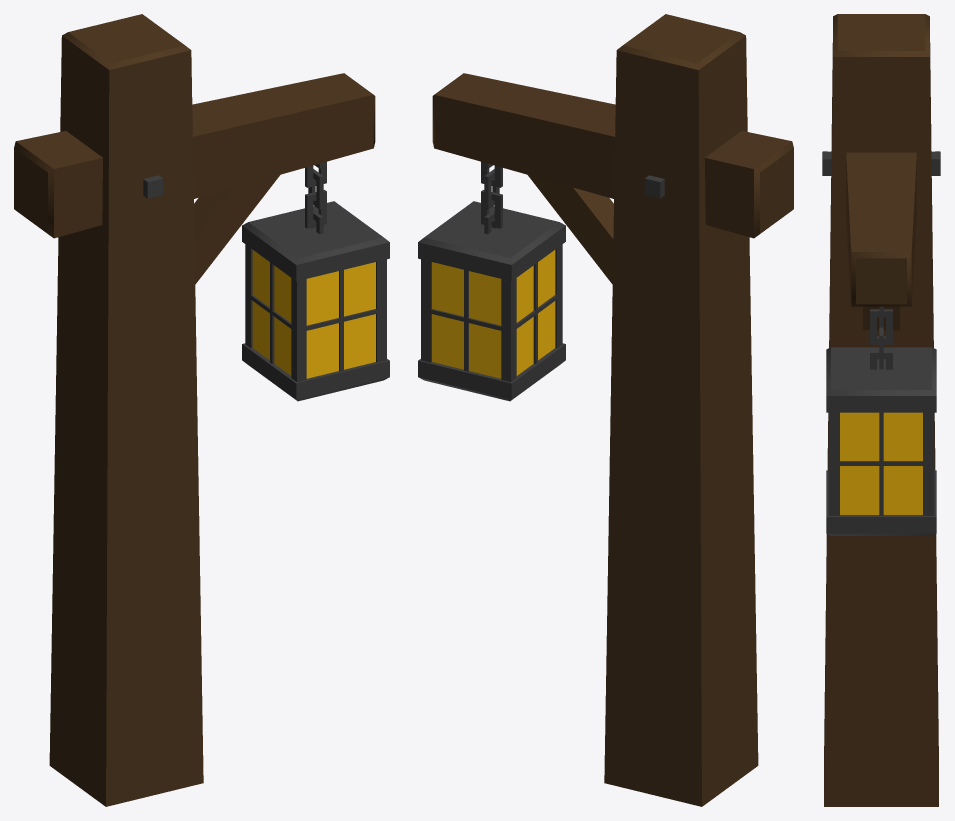
Rendered from ElwFor_Lantern.obj.
The picture shows the model from 3 angles, left to right: view 1: azimuth 30°, elevation 25°; view 2: azimuth 150°, elevation 25°; view 3: azimuth 270°, elevation 25°; orthographic projection.
Visible parts, largest first — view 1: Mesh1 ElwFor_Lantern_C01_1 Model, Mesh3 ElwFor_Lantern_C03_1 ElwFor_Lantern_C02_1 Model; view 2: Mesh1 ElwFor_Lantern_C01_1 Model, Mesh3 ElwFor_Lantern_C03_1 ElwFor_Lantern_C02_1 Model; view 3: Mesh1 ElwFor_Lantern_C01_1 Model, Mesh3 ElwFor_Lantern_C03_1 ElwFor_Lantern_C02_1 Model, Mesh7 ElwFor_Lantern_C04_3 ElwFor_Lantern_C02_1 Model, Mesh5 ElwFor_Lantern_C05_1 ElwFor_Lantern_C02_1 Model, Mesh2 ElwFor_Lantern_C01_1 Model.
Part boxes in pixels (x1=…): Mesh1 ElwFor_Lantern_C01_1 Model: x1=14, y1=14, x2=375, y2=806; Mesh3 ElwFor_Lantern_C03_1 ElwFor_Lantern_C02_1 Model: x1=242, y1=201, x2=389, y2=401; Mesh1 ElwFor_Lantern_C01_1 Model: x1=432, y1=14, x2=793, y2=806; Mesh3 ElwFor_Lantern_C03_1 ElwFor_Lantern_C02_1 Model: x1=418, y1=201, x2=565, y2=401; Mesh1 ElwFor_Lantern_C01_1 Model: x1=822, y1=14, x2=938, y2=806; Mesh3 ElwFor_Lantern_C03_1 ElwFor_Lantern_C02_1 Model: x1=826, y1=347, x2=936, y2=535; Mesh7 ElwFor_Lantern_C04_3 ElwFor_Lantern_C02_1 Model: x1=870, y1=309, x2=892, y2=344; Mesh5 ElwFor_Lantern_C05_1 ElwFor_Lantern_C02_1 Model: x1=870, y1=351, x2=892, y2=369; Mesh2 ElwFor_Lantern_C01_1 Model: x1=931, y1=151, x2=940, y2=175.
Size of the model in its own units: 85 by 180 by 25.74.
